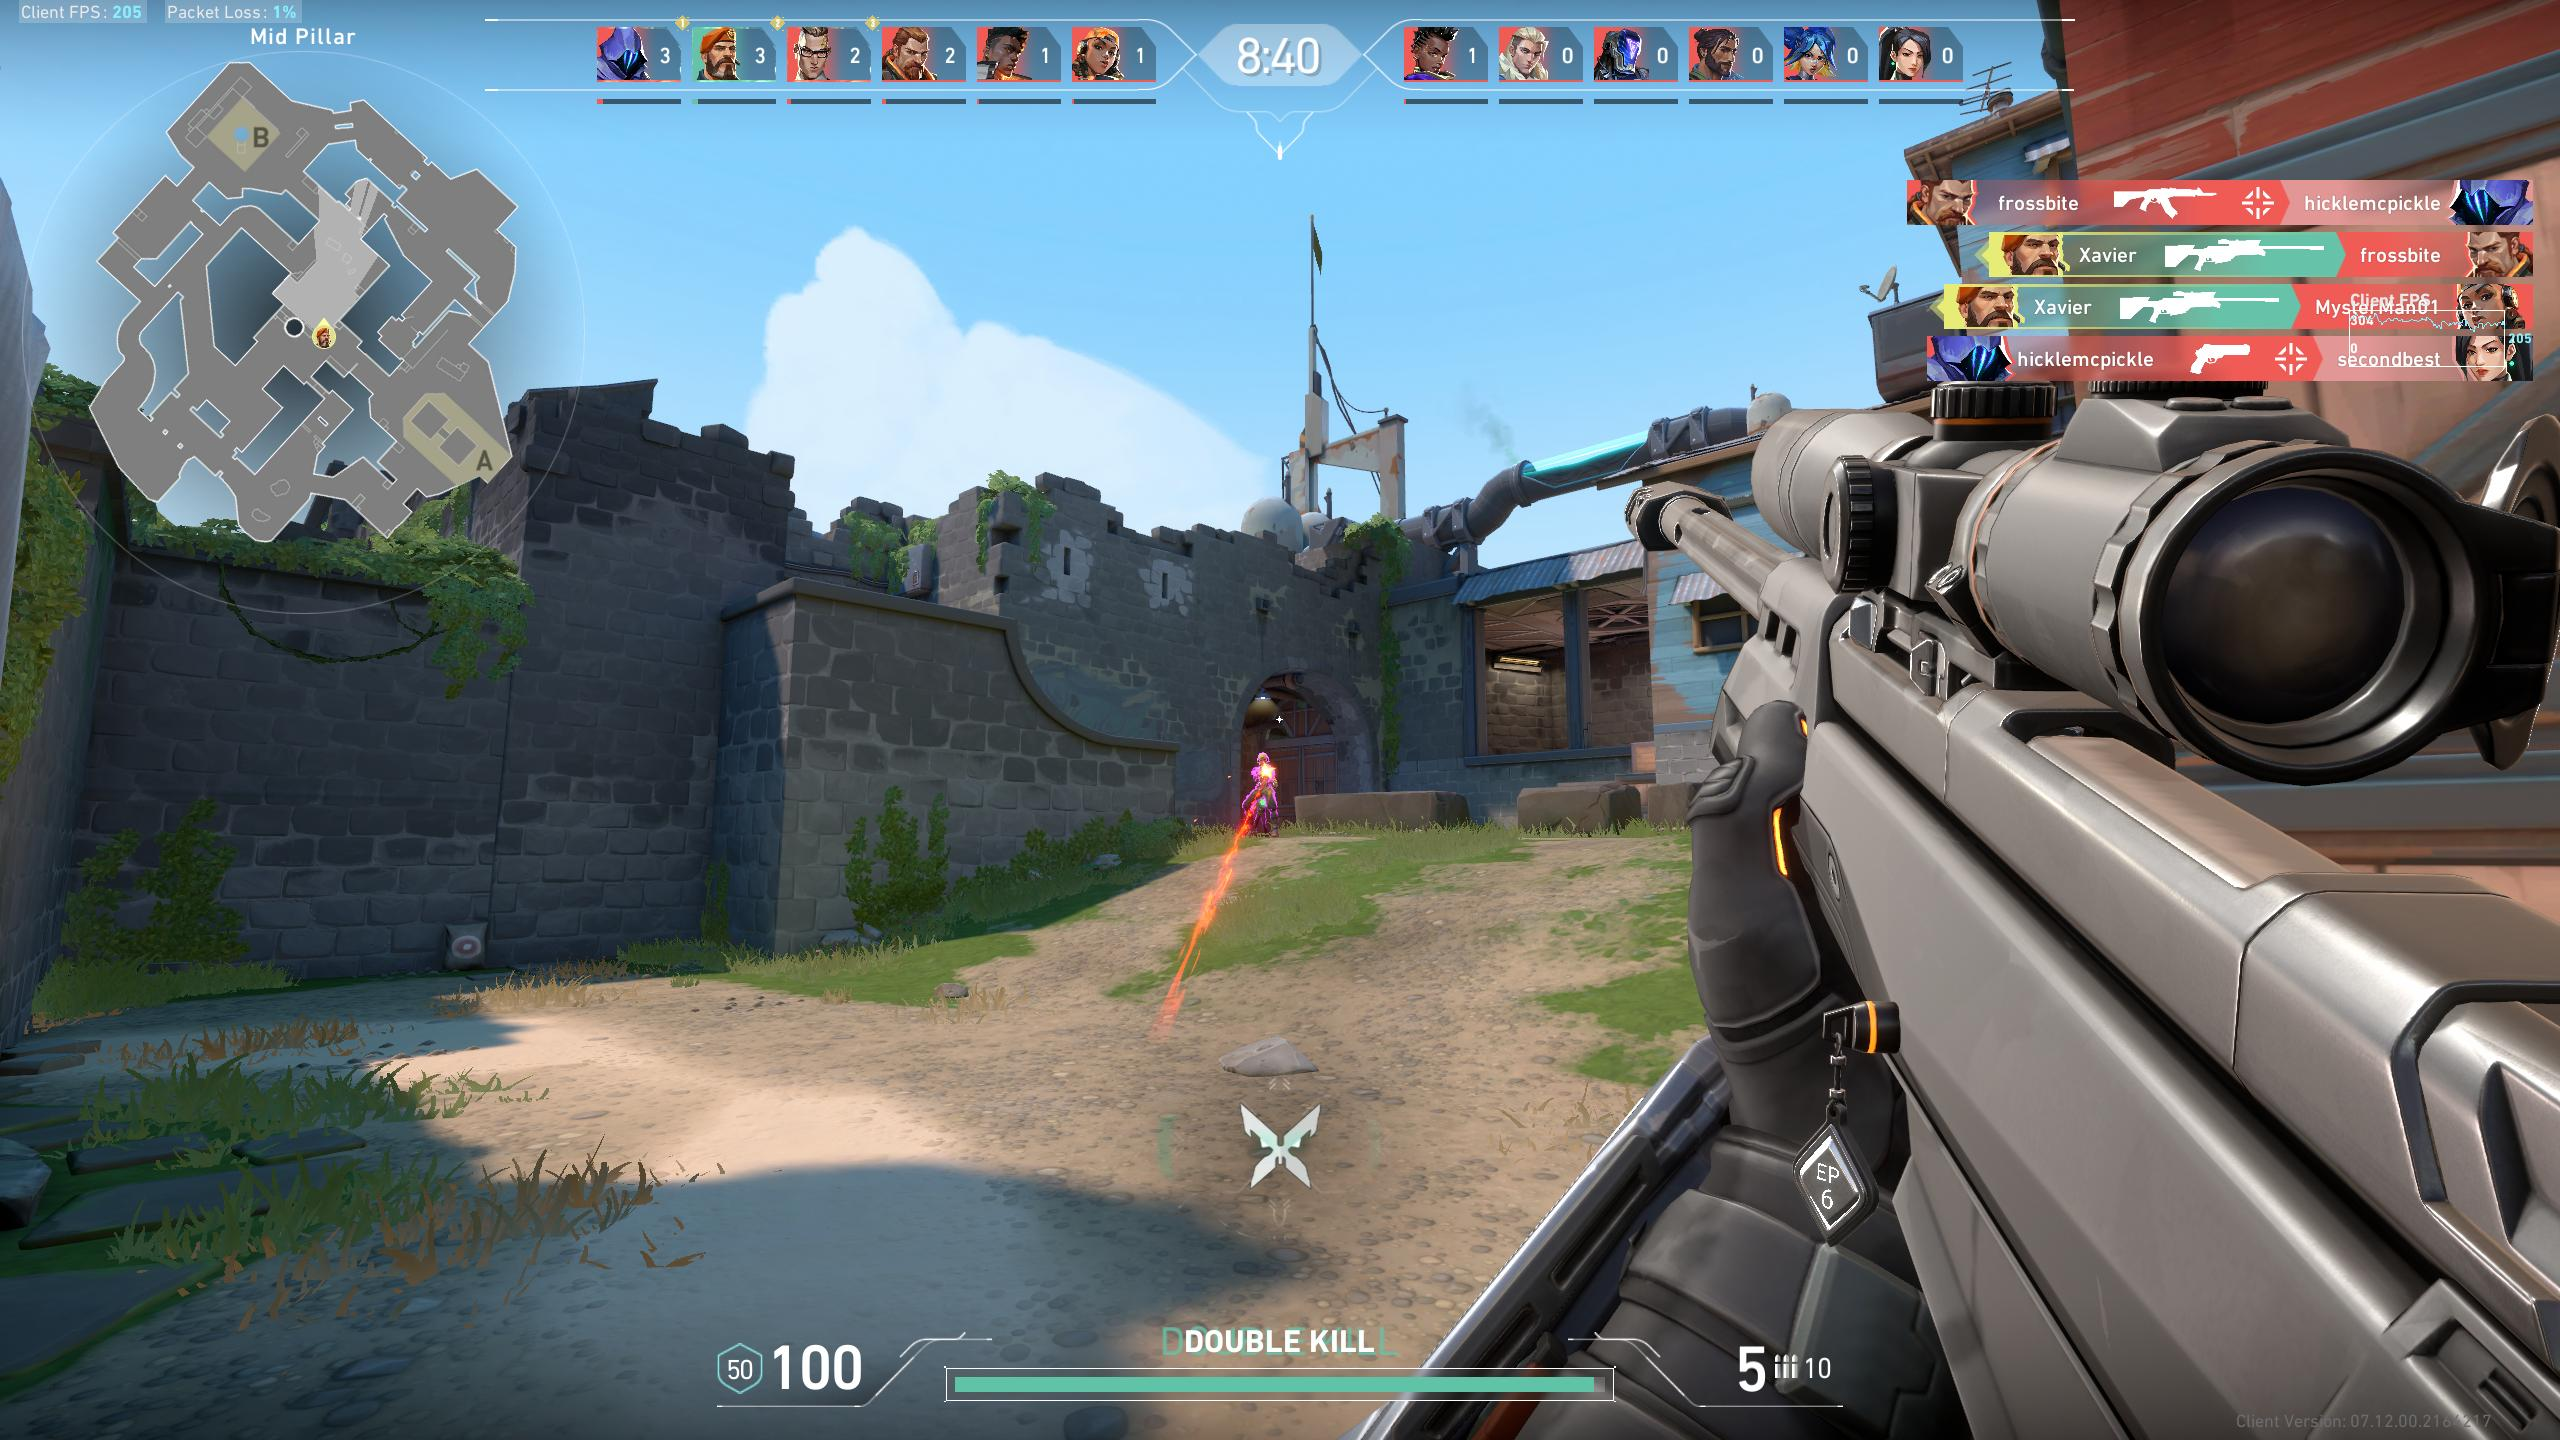enemyBody: (1254, 777, 1287, 805)
enemyHead: (1254, 753, 1269, 770)
